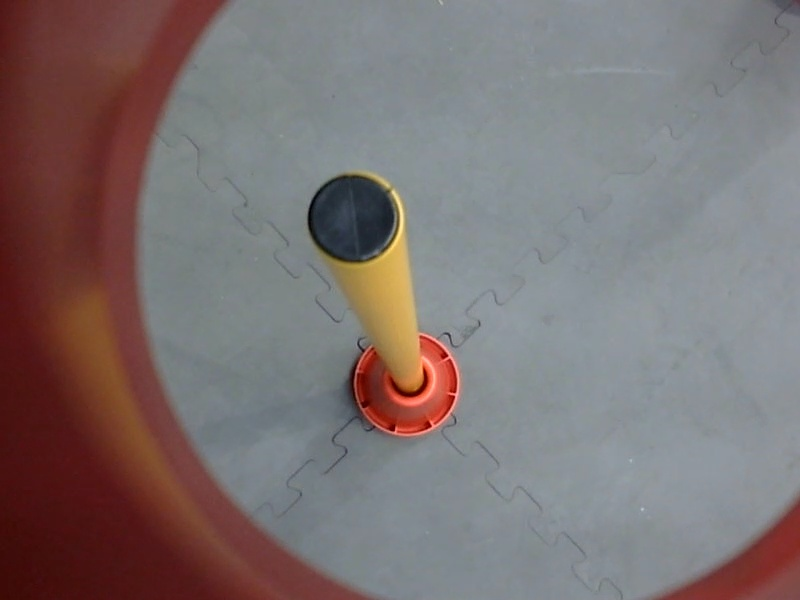tip: (299, 164, 416, 269)
